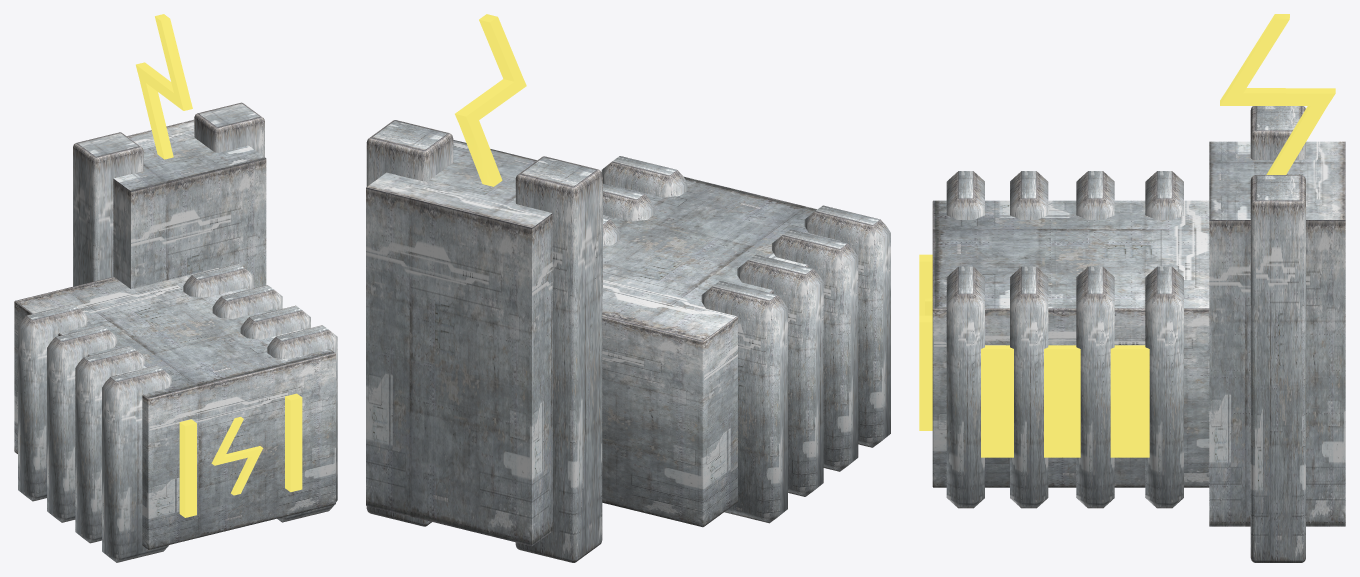
File: gererator_done.fbx
3 renders of one model, left to right at view 1: azimuth 30°, elevation 25°; view 2: azimuth 150°, elevation 25°; view 3: azimuth 270°, elevation 25°, orthographic. The views are drawn at different scales.
Visible parts, largest first — view 1: Null_1; view 2: Null_1; view 3: Null_1.
Part boxes in pixels (x1=…): Null_1: x1=14, y1=14, x2=337, y2=562; Null_1: x1=366, y1=14, x2=890, y2=562; Null_1: x1=919, y1=14, x2=1345, y2=562.
Size of the model in its own units: 44.94 by 63.83 by 49.77.
2 materials, 1 textured.
